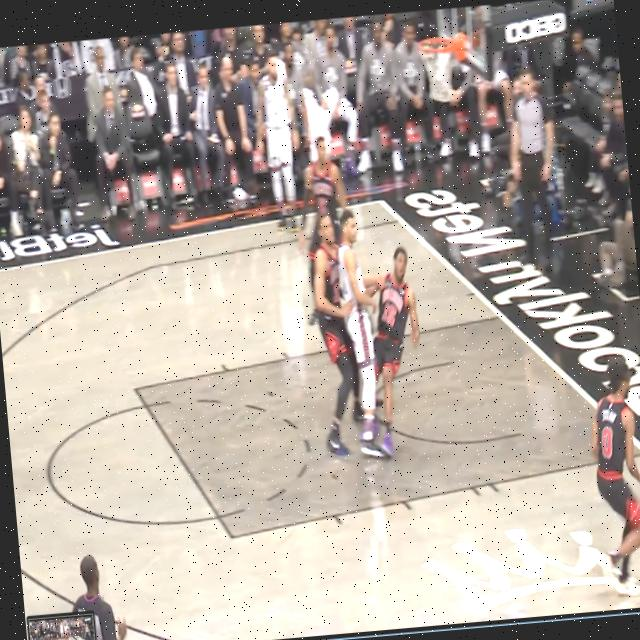foul: (292, 165, 443, 478)
